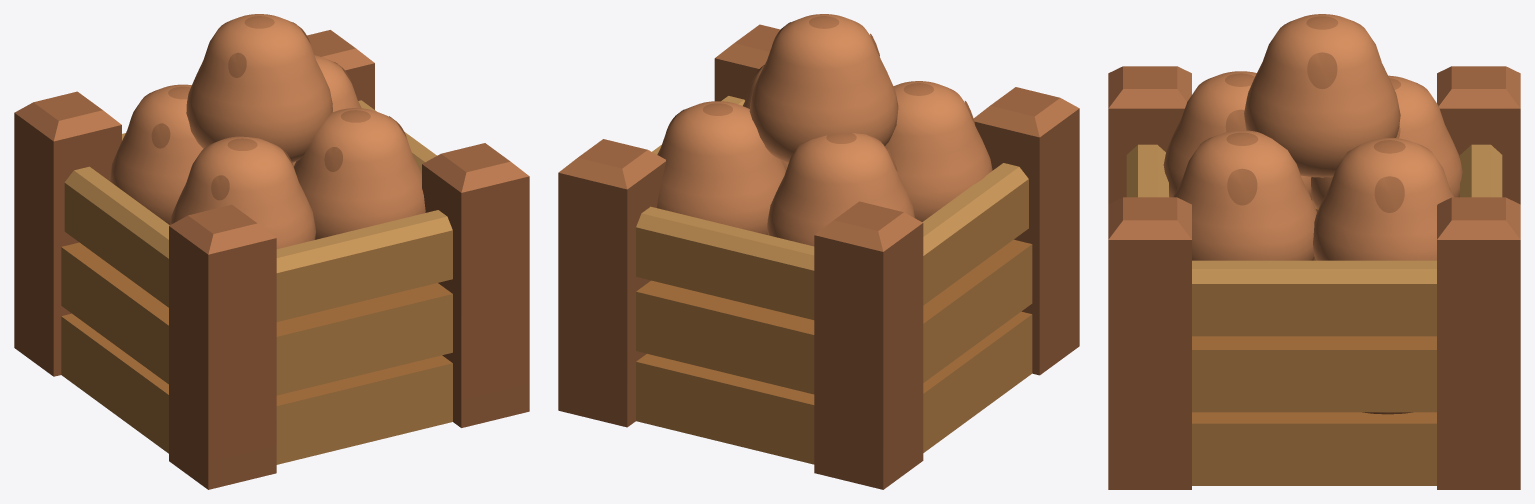
Rendered from BoxPotato3.fbx.
The picture shows the model from 3 angles, left to right: view 1: azimuth 30°, elevation 25°; view 2: azimuth 150°, elevation 25°; view 3: azimuth 270°, elevation 25°; orthographic projection. The views are drawn at different scales.
Visible parts, largest first — view 1: Sphere.021; view 2: Sphere.021; view 3: Sphere.021.
Part boxes in pixels (x1,y1,x2,y2): Sphere.021: [14, 14, 529, 489]; Sphere.021: [558, 14, 1079, 489]; Sphere.021: [1108, 14, 1520, 489].
Bounding box in the file's own units: 1.41 × 1.51 × 1.48.
